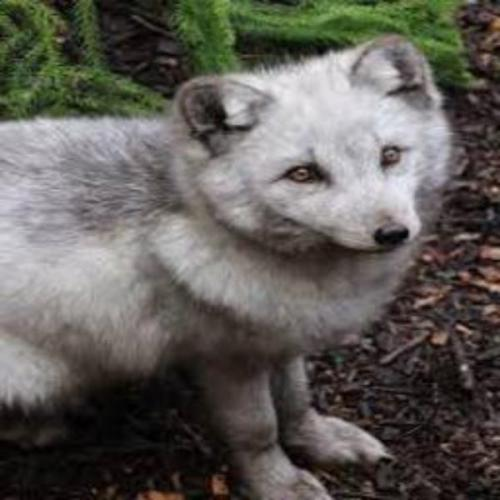arctic_fox-endangered: (0, 45, 448, 426)
